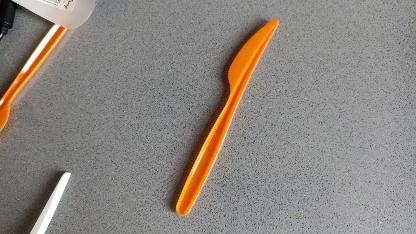Others: (175, 17, 281, 218)
